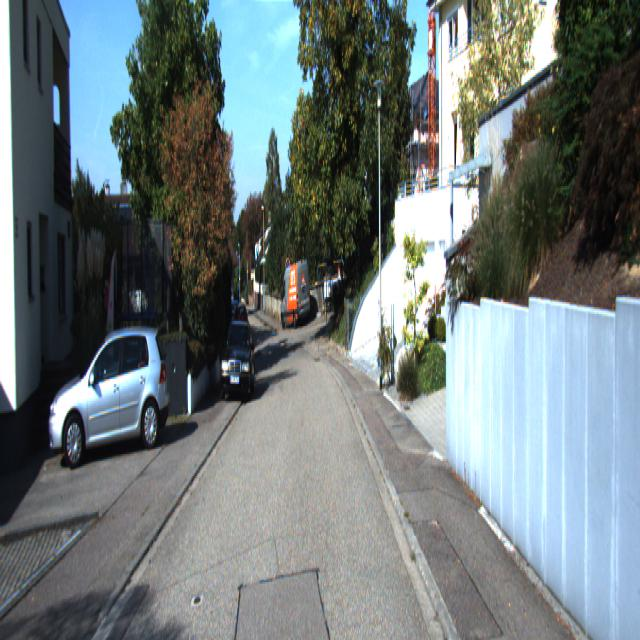Car: (49, 324, 174, 471), (220, 321, 256, 404), (280, 261, 311, 331)
